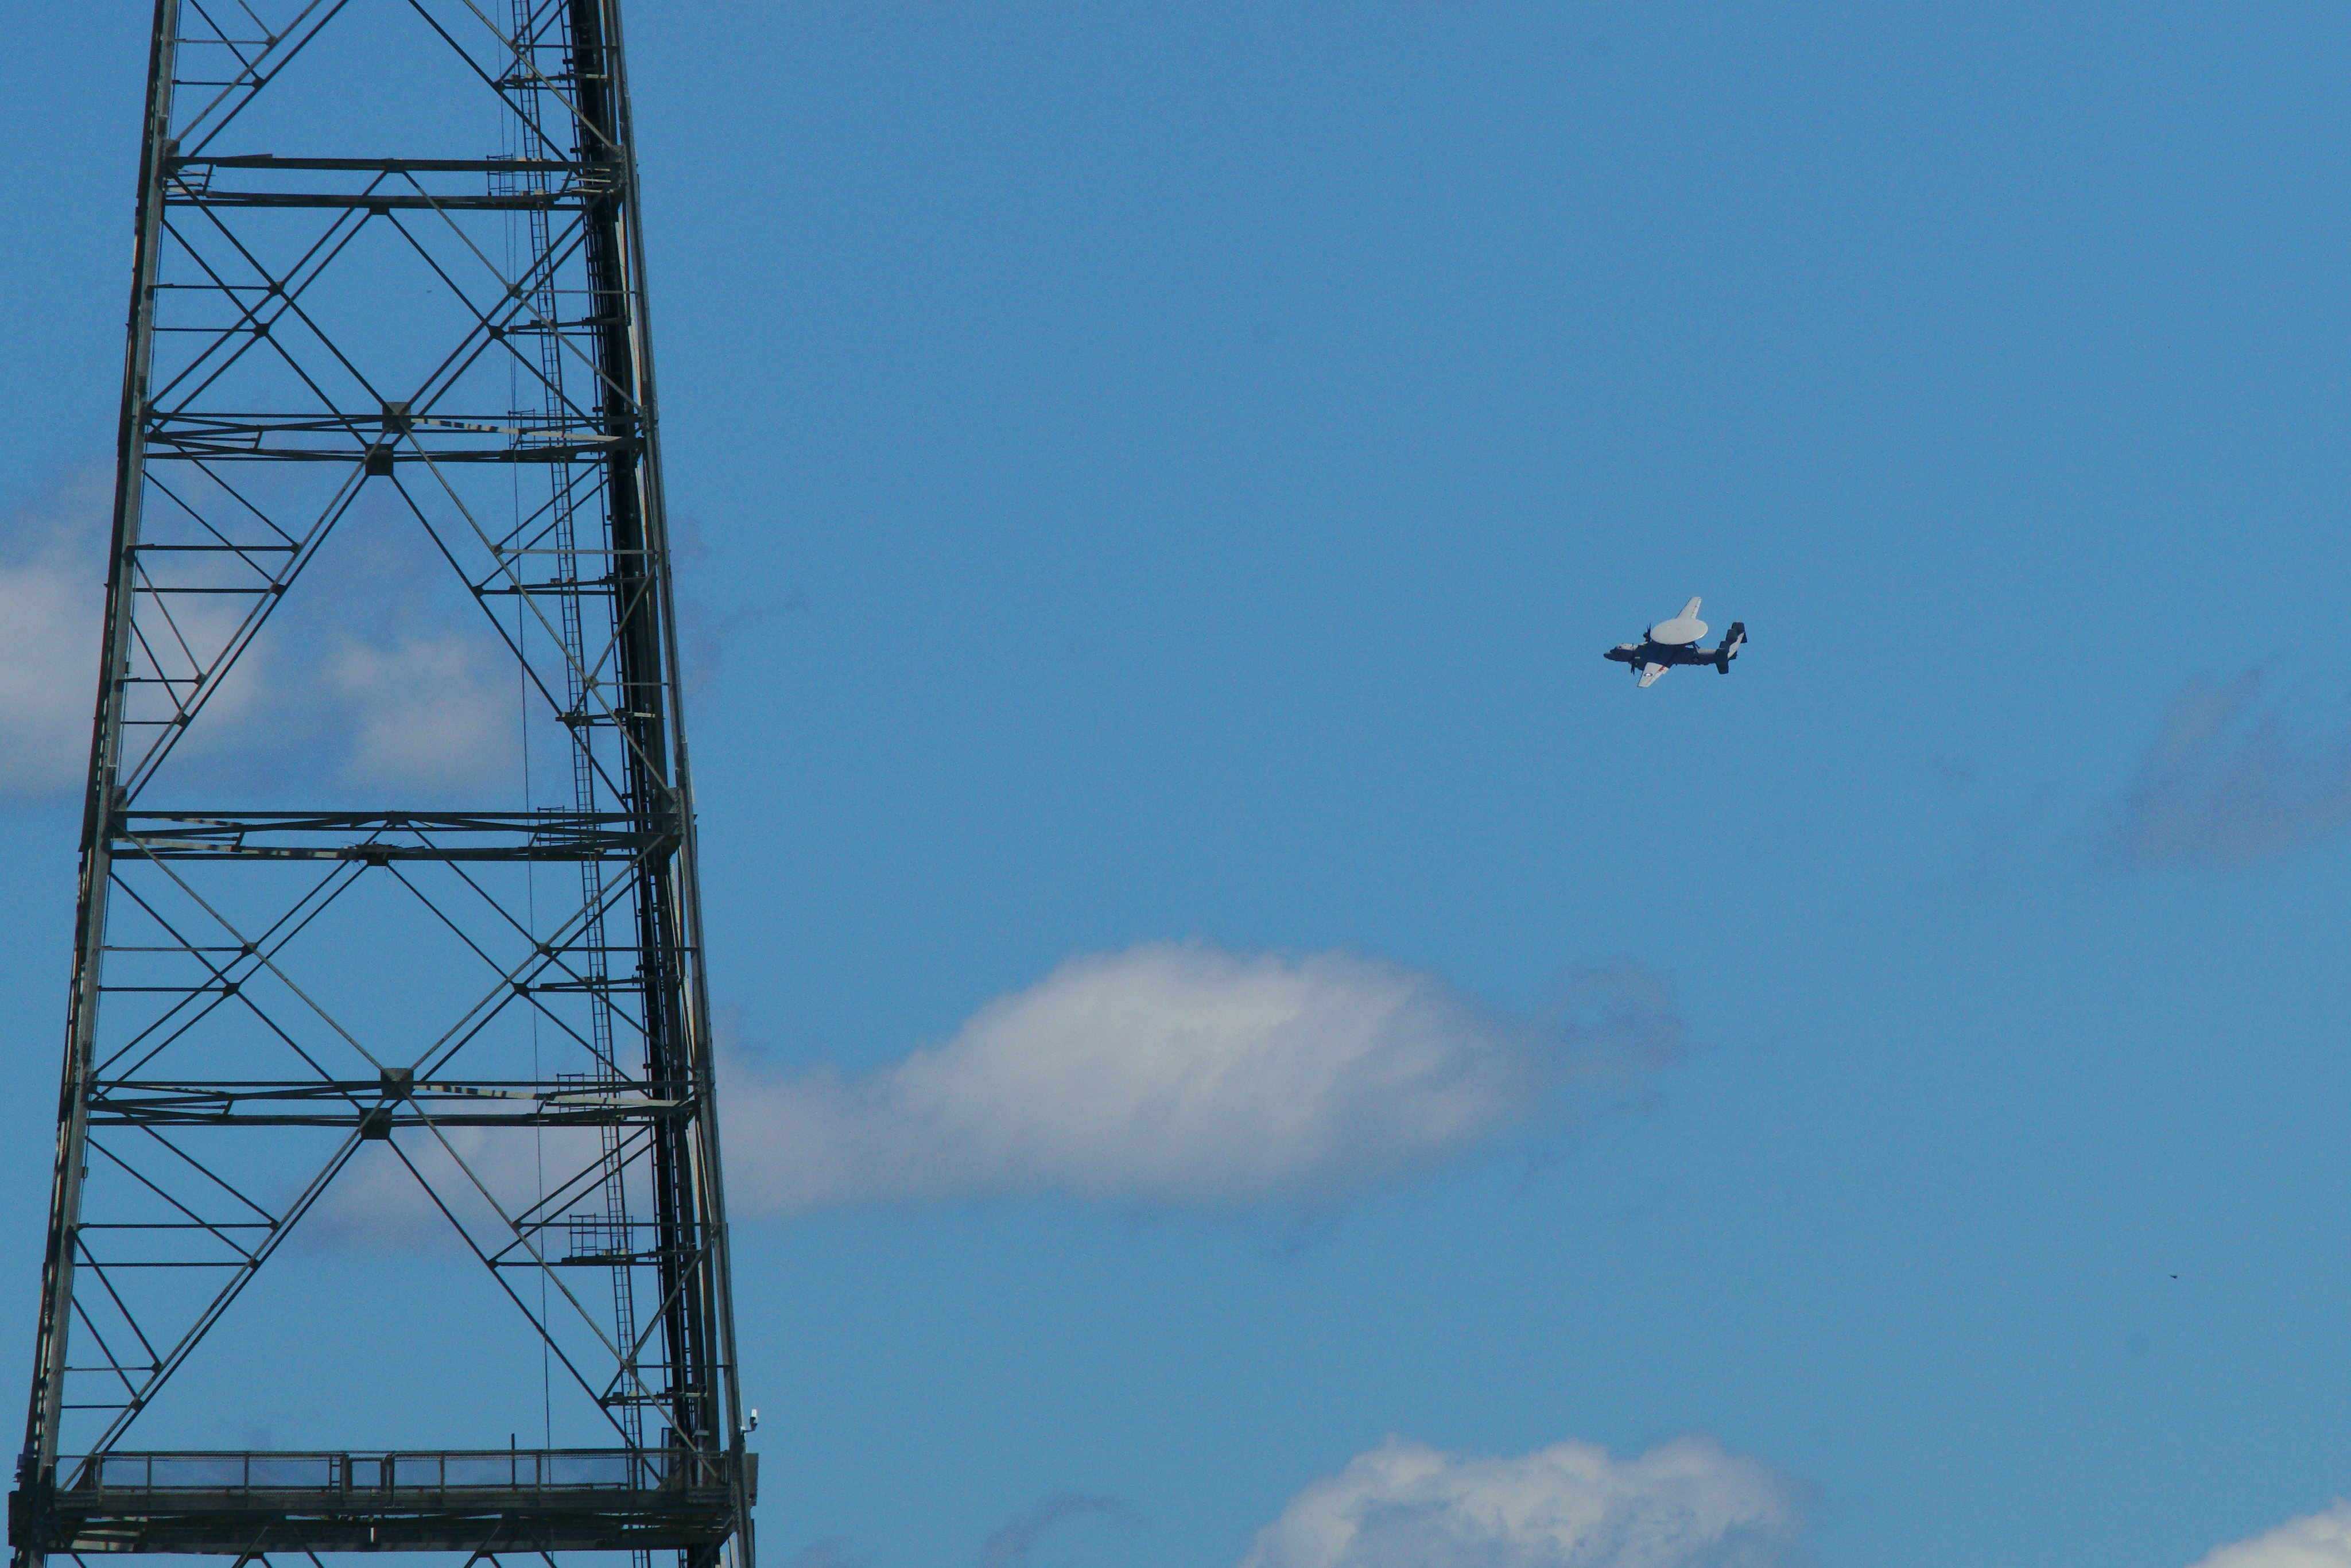E2: (1602, 597, 1748, 688)
